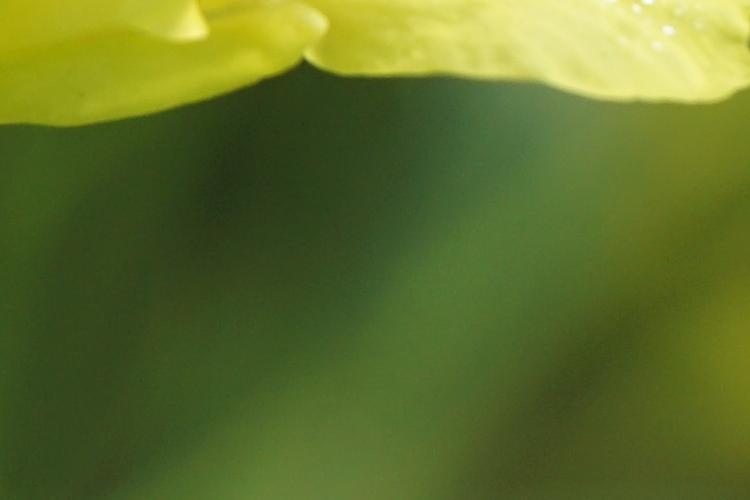yellow: (24, 8, 716, 131)
